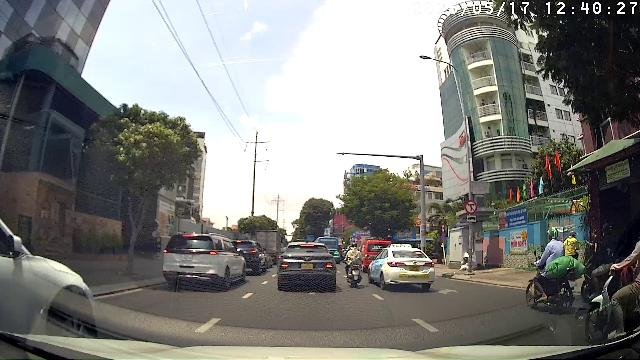137-cam-re-trai-va-re-phai: (464, 199, 478, 214)
